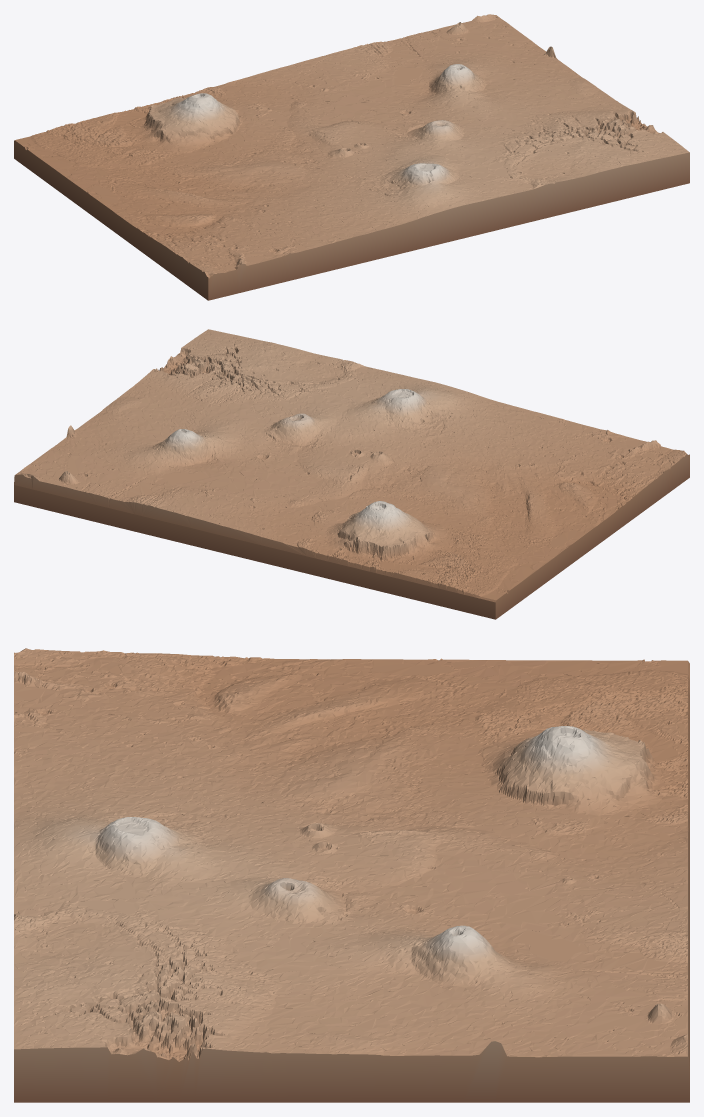
The model's file is tharsis.glb.
The picture shows the model from 3 angles, top to bottom: view 1: azimuth 30°, elevation 25°; view 2: azimuth 150°, elevation 25°; view 3: azimuth 270°, elevation 25°; orthographic projection. The views are drawn at different scales.
Parts seen in each view (by area): view 1: tharsis.stl; view 2: tharsis.stl; view 3: tharsis.stl.
Boxes of the visible parts, bbox=[...] form: tharsis.stl: bbox=[14, 14, 689, 300]; tharsis.stl: bbox=[14, 329, 689, 619]; tharsis.stl: bbox=[14, 648, 689, 1102].
Size of the model in its own units: 146 by 15.16 by 102.
